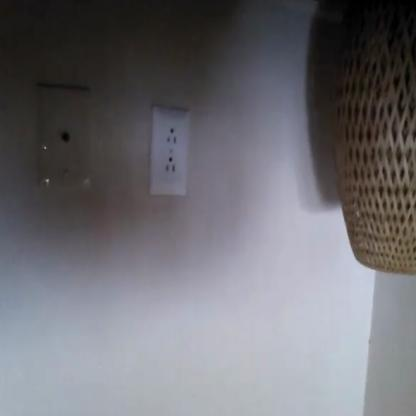OUTLET: (151, 107, 189, 196)
